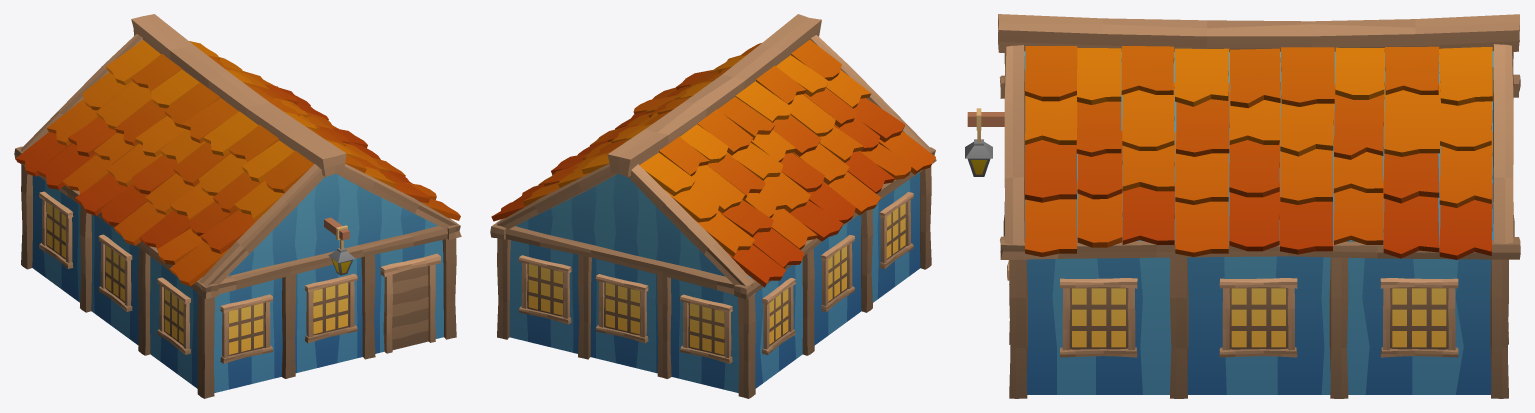
Rendered from pirate-house.glb.
The picture shows the model from 3 angles, left to right: view 1: azimuth 30°, elevation 25°; view 2: azimuth 150°, elevation 25°; view 3: azimuth 270°, elevation 25°; orthographic projection. The views are drawn at different scales.
Parts seen in each view (by area): view 1: pirate house; view 2: pirate house; view 3: pirate house.
Boxes of the visible parts, x1=… form: pirate house: x1=14, y1=14, x2=461, y2=398; pirate house: x1=490, y1=14, x2=936, y2=398; pirate house: x1=965, y1=14, x2=1520, y2=398.
Size of the model in its own units: 7.21 by 5.26 by 9.05.
1 material, 1 textured.
